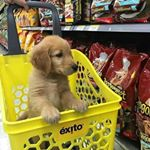puppy: (18, 33, 90, 126)
